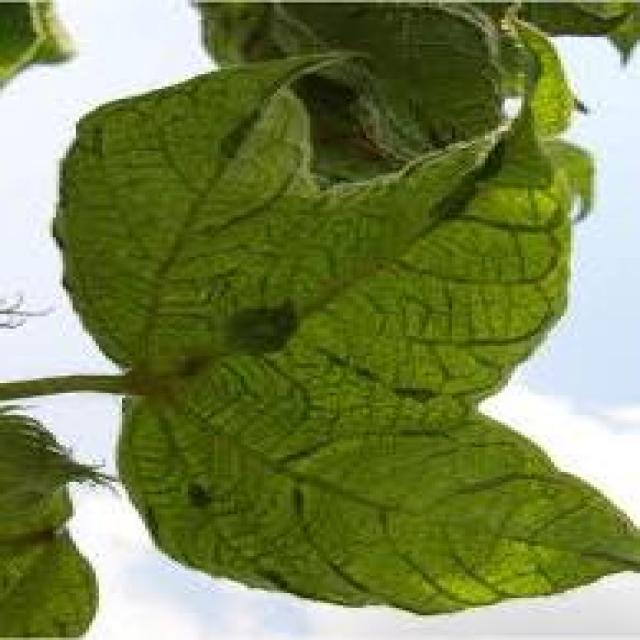Leaf Curl Virus: (94, 125, 532, 566)
